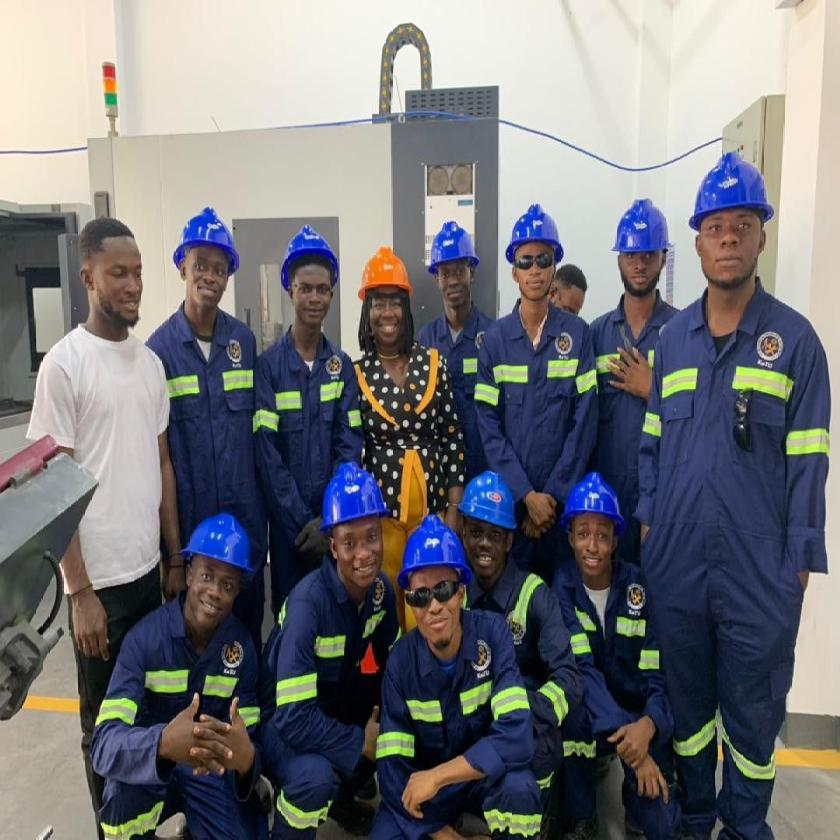Con_casco: (694, 149, 770, 307), (179, 511, 262, 643), (402, 511, 472, 653), (324, 460, 390, 589), (353, 244, 421, 369), (610, 193, 675, 319), (564, 466, 626, 597), (172, 202, 241, 318), (456, 466, 521, 588), (506, 198, 569, 315), (283, 223, 342, 342), (426, 220, 482, 328)
Sin_casco: (74, 215, 152, 341)
